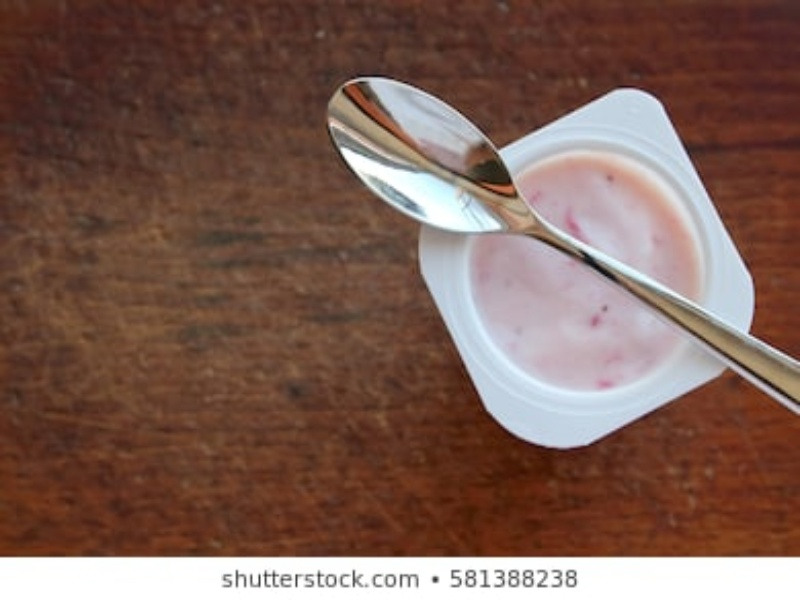yogurt-cup: (413, 79, 761, 453)
